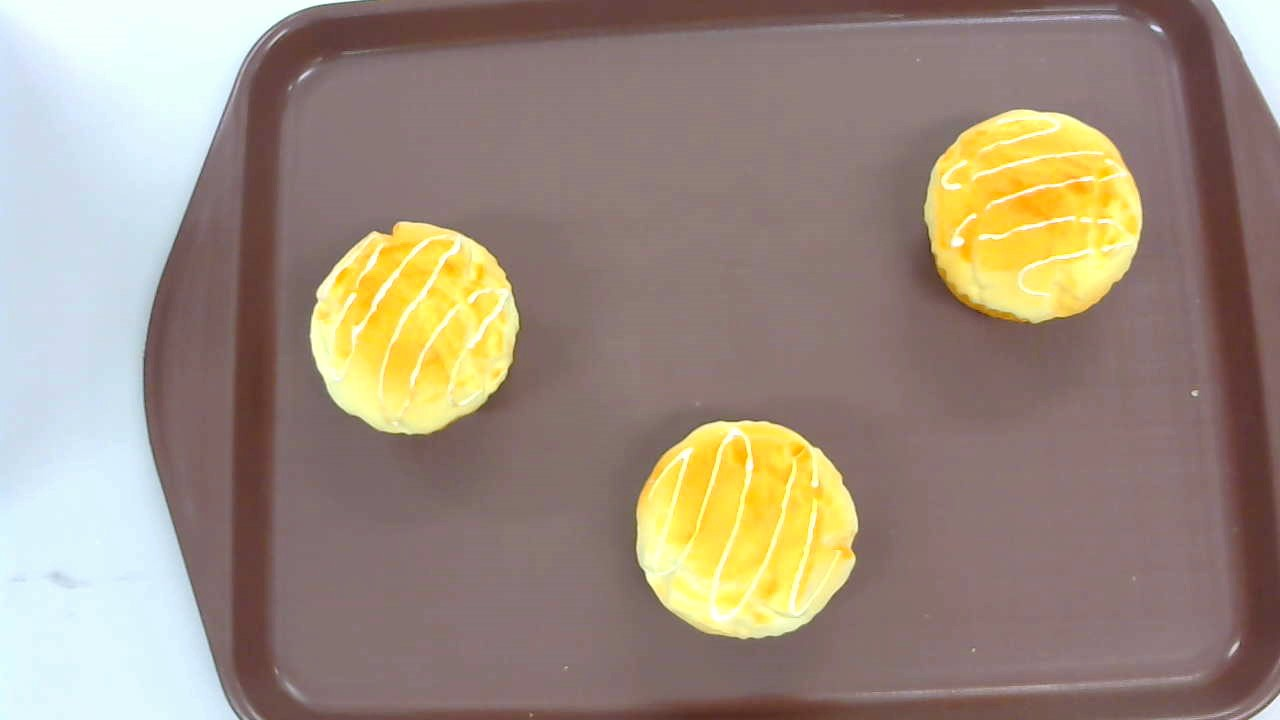cupcake: (636, 420, 858, 639), (923, 109, 1143, 323), (310, 220, 520, 435)
